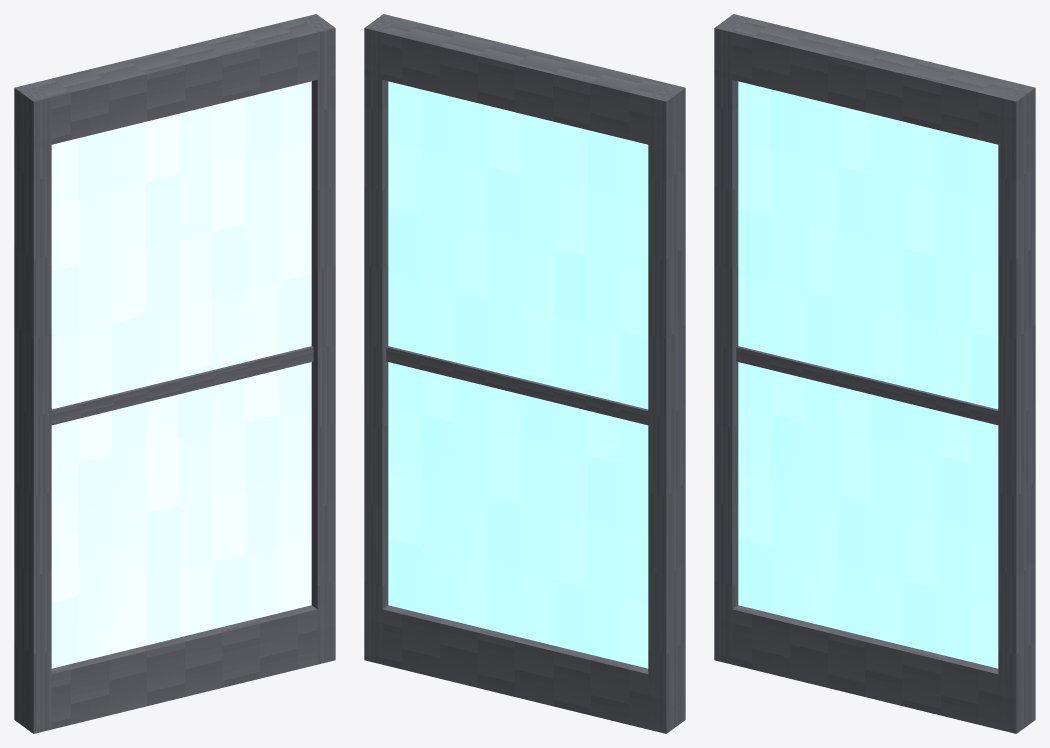
Rendered from shopfront-glass.glb.
3 renders of one model, left to right at view 1: azimuth 30°, elevation 25°; view 2: azimuth 150°, elevation 25°; view 3: azimuth 330°, elevation 25°, orthographic.
Parts seen in each view (by area): view 1: shopfront-glass-bay; view 2: shopfront-glass-bay; view 3: shopfront-glass-bay.
Part boxes in pixels (bbox=[...]): shopfront-glass-bay: bbox=[14, 14, 335, 733]; shopfront-glass-bay: bbox=[364, 14, 685, 733]; shopfront-glass-bay: bbox=[714, 14, 1035, 733].
Bounding box in the file's own units: 2 × 4 × 0.2202.
2 materials, 2 textured.
